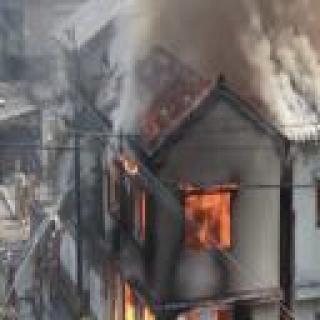fire: (87, 160, 301, 320), (307, 20, 320, 97), (312, 178, 320, 230)
